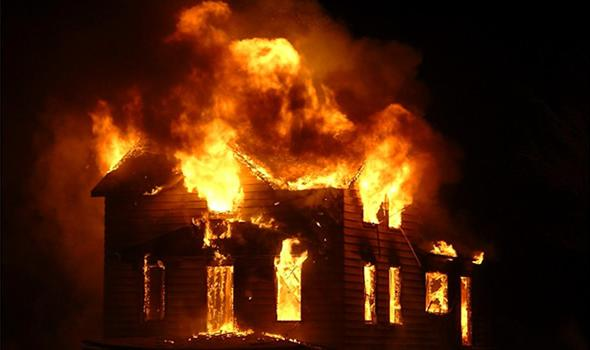fire: (93, 3, 446, 235), (271, 242, 307, 322), (204, 266, 239, 340), (425, 273, 447, 315), (363, 264, 378, 322), (389, 269, 399, 321), (438, 240, 459, 260), (461, 301, 472, 339), (472, 247, 492, 265)
